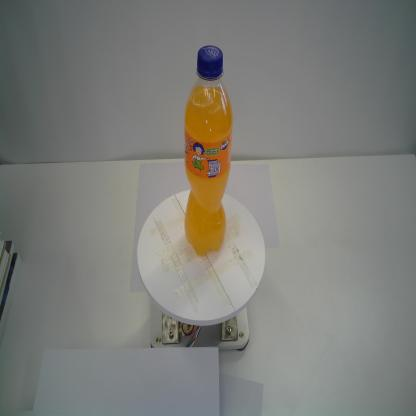Drink: (184, 43, 234, 258)
